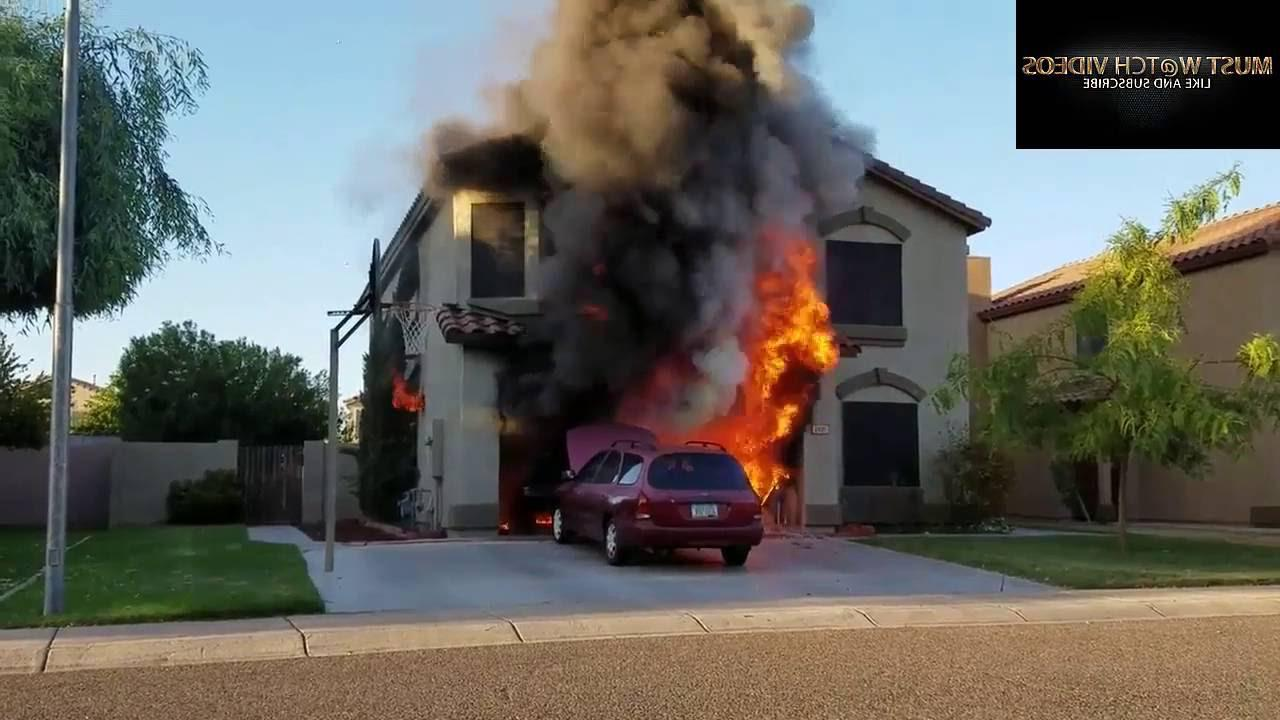fire: (648, 239, 841, 517), (387, 368, 426, 419)
